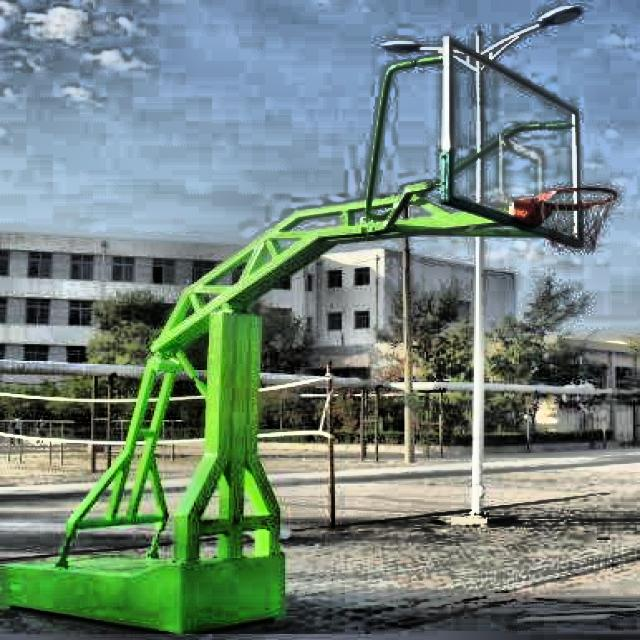rim: (546, 186, 618, 252)
